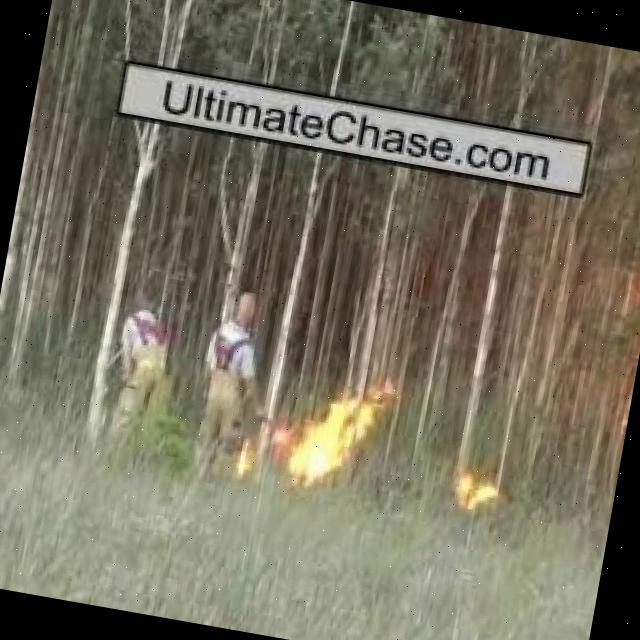fire: (288, 373, 382, 504), (443, 466, 510, 520), (232, 438, 260, 478), (265, 421, 293, 454)
